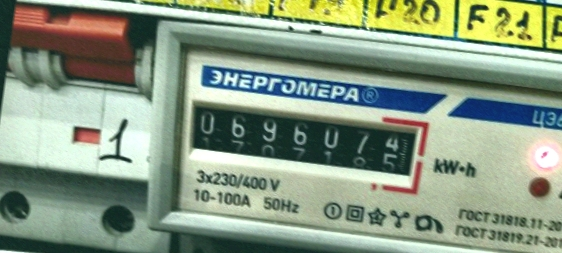0: (198, 107, 219, 134), (323, 121, 342, 149)
4: (385, 129, 402, 151)
5: (382, 151, 399, 171)
6: (292, 117, 312, 146), (229, 110, 250, 137)
7: (353, 126, 373, 154)
9: (260, 115, 281, 143)
screen: (180, 85, 434, 195)
